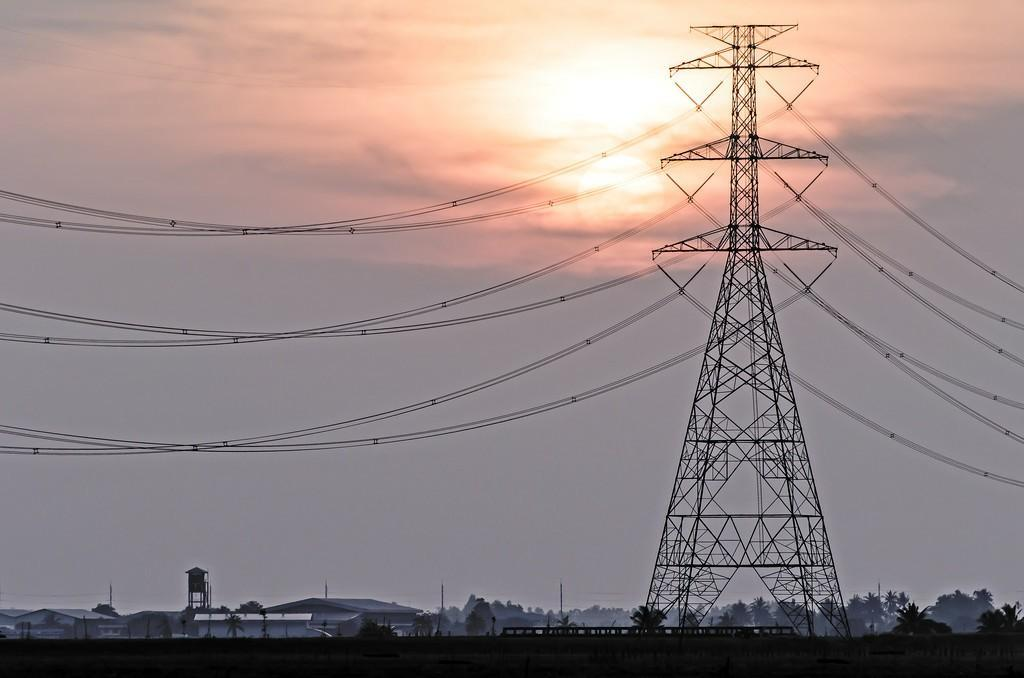power_tower: (623, 16, 866, 644)
